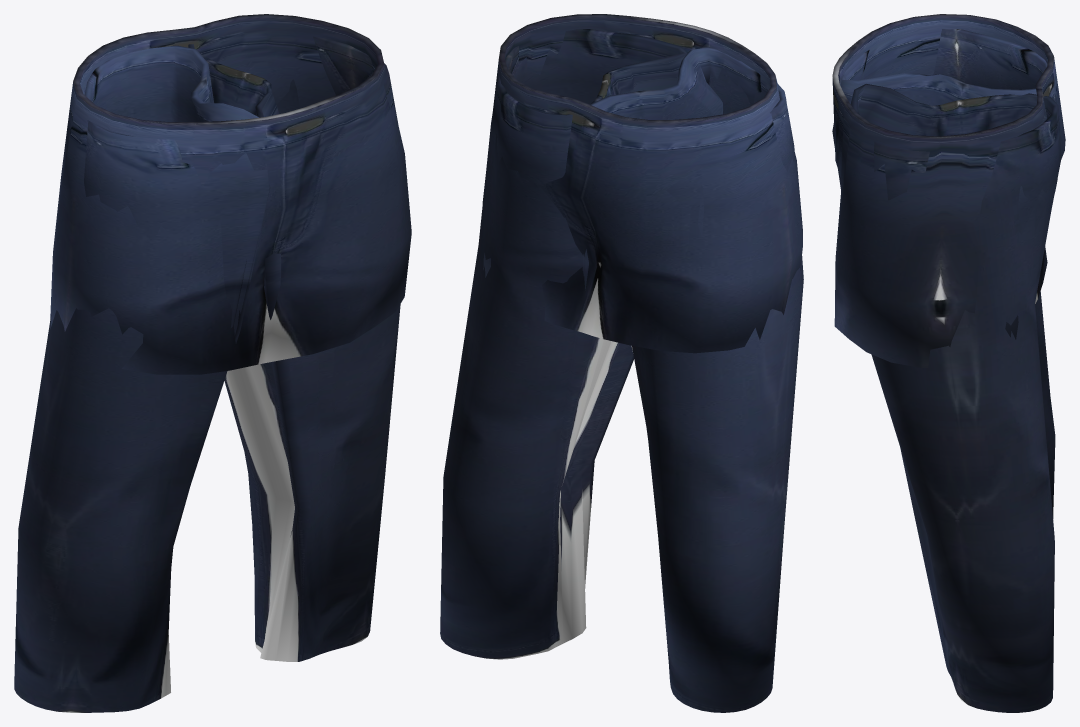
Rendered from e2ae780d-96bf-49d1-89ac-eabcb506af46.glb.
The picture shows the model from 3 angles, left to right: view 1: azimuth 30°, elevation 25°; view 2: azimuth 150°, elevation 25°; view 3: azimuth 270°, elevation 25°; orthographic projection. The views are drawn at different scales.
Visible parts, largest first — view 1: garment_leg0; view 2: garment_leg0; view 3: garment_leg0.
Boxes of the visible parts, x1=… form: garment_leg0: x1=14, y1=14, x2=411, y2=712; garment_leg0: x1=440, y1=14, x2=803, y2=712; garment_leg0: x1=832, y1=14, x2=1065, y2=712.
Bounding box in the file's own units: 0.4492 × 0.7726 × 0.2885.
Materials: 1 (1 with a texture image).
